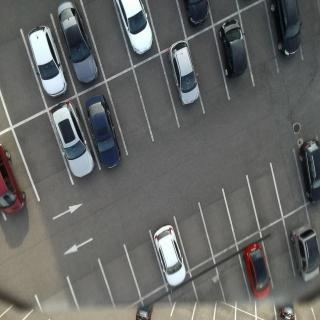car: (48, 96, 99, 183), (53, 1, 101, 93), (82, 91, 125, 176), (26, 21, 71, 101), (152, 223, 190, 292), (166, 39, 200, 112), (117, 2, 155, 60), (217, 18, 250, 84), (1, 140, 28, 218), (241, 241, 275, 301), (288, 221, 320, 284), (269, 2, 302, 63), (297, 136, 320, 207), (181, 1, 209, 32), (134, 303, 156, 320), (278, 305, 297, 320)
parking-space: (13, 122, 76, 208), (1, 27, 48, 131), (183, 21, 233, 117), (103, 76, 158, 163), (130, 55, 181, 146), (80, 1, 132, 83), (241, 1, 280, 89), (172, 203, 217, 274), (268, 145, 310, 220), (97, 244, 144, 311), (197, 188, 239, 260), (124, 230, 167, 299), (67, 257, 117, 315), (223, 174, 263, 246), (142, 1, 192, 56), (246, 164, 285, 231), (263, 215, 296, 291), (214, 247, 246, 302), (292, 3, 319, 63), (204, 1, 242, 27), (294, 301, 320, 319)
